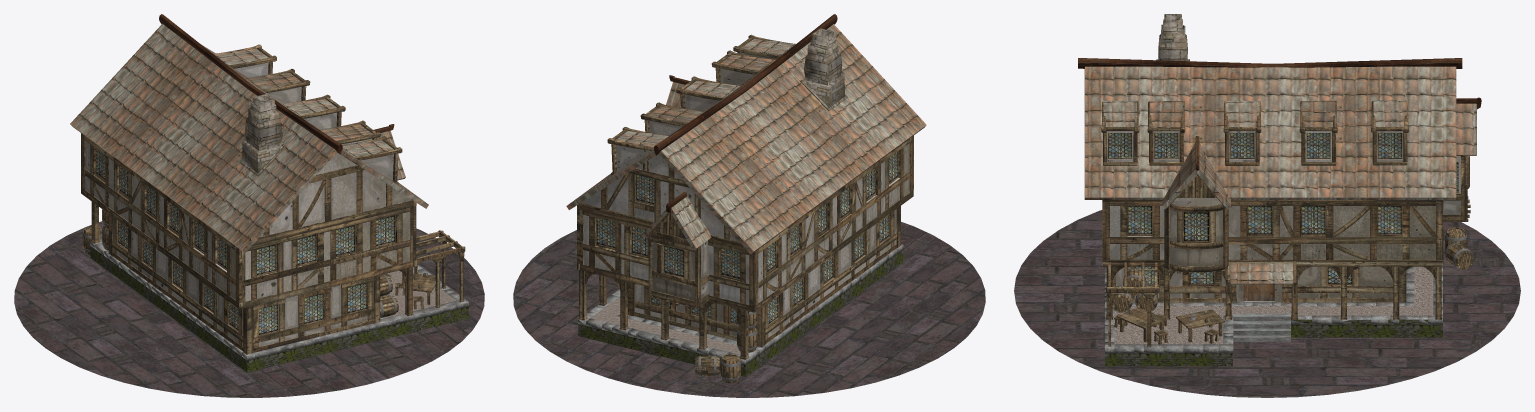
Rendered from tavern.glb.
The picture shows the model from 3 angles, left to right: view 1: azimuth 30°, elevation 25°; view 2: azimuth 150°, elevation 25°; view 3: azimuth 270°, elevation 25°; orthographic projection. The views are drawn at different scales.
Parts seen in each view (by area): view 1: Circle_Stone brick wall_0, Cube.002_roof_09_0, Cube.164_Material.002_0, Cube.251_Material.010_0, Cube_Material_0, Plane.003_Material.022_0, Cube.001_Old stone wall moss_0, Cube.257_Material.008_0, Cube.046_Stone_0, Cube.200_Material.011_0, Cube.157_Material.020_0, Cube.604_Stone Wall Flag Floor_0 (+4 smaller); view 2: Circle_Stone brick wall_0, Cube.002_roof_09_0, Cube.164_Material.002_0, Cube.251_Material.010_0, Cube_Material_0, Cube.257_Material.008_0, Plane.003_Material.022_0, Cube.001_Old stone wall moss_0, Cube.046_Stone_0, Cube.157_Material.020_0, Cube.604_Stone Wall Flag Floor_0, Cube.200_Material.011_0 (+7 smaller); view 3: Cube.002_roof_09_0, Circle_Stone brick wall_0, Cube.251_Material.010_0, Cube.164_Material.002_0, Cube.257_Material.008_0, Plane.003_Material.022_0, Cube.046_Stone_0, Cube_Material_0, Cube.001_Ground Peables 01_0, Cube.157_Material.020_0, Cube.001_Old stone wall moss_0, Cube.003_Material.012_0 (+8 smaller).
Boxes of the visible parts, x1,y1,x2,y2 form: Circle_Stone brick wall_0: (14,221,484,397); Cube.002_roof_09_0: (70,24,428,252); Cube.164_Material.002_0: (81,133,416,309); Cube.251_Material.010_0: (82,180,465,354); Cube_Material_0: (85,141,411,301); Plane.003_Material.022_0: (96,149,394,334); Cube.001_Old stone wall moss_0: (90,246,468,372); Cube.257_Material.008_0: (95,148,464,288); Cube.046_Stone_0: (90,238,468,360); Cube.200_Material.011_0: (113,217,373,346); Cube.157_Material.020_0: (213,48,393,156); Cube.604_Stone Wall Flag Floor_0: (239,94,285,176); Circle_Stone brick wall_0: (513,222,985,397); Cube.002_roof_09_0: (566,24,926,254); Cube.164_Material.002_0: (577,135,913,312); Cube.251_Material.010_0: (578,173,900,382); Cube_Material_0: (581,143,909,304); Cube.257_Material.008_0: (596,99,898,308); Plane.003_Material.022_0: (596,152,897,324); Cube.001_Old stone wall moss_0: (578,250,903,376); Cube.046_Stone_0: (578,244,903,364); Cube.157_Material.020_0: (616,39,795,147); Cube.604_Stone Wall Flag Floor_0: (800,28,847,110); Cube.200_Material.011_0: (634,209,896,337); Cube.002_roof_09_0: (1084,66,1456,199); Circle_Stone brick wall_0: (1014,210,1520,397); Cube.251_Material.010_0: (1106,206,1473,346); Cube.164_Material.002_0: (1102,200,1443,266); Cube.257_Material.008_0: (1106,133,1470,322); Plane.003_Material.022_0: (1109,133,1458,283); Cube.046_Stone_0: (1104,266,1442,353); Cube_Material_0: (1110,206,1435,259); Cube.001_Ground Peables 01_0: (1105,266,1433,347); Cube.157_Material.020_0: (1104,100,1406,131); Cube.001_Old stone wall moss_0: (1105,319,1442,366); Cube.003_Material.012_0: (1162,103,1476,284).
Size of the model in its own units: 5.03 by 2.83 by 5.03.
Materials: 22 (21 with a texture image).
